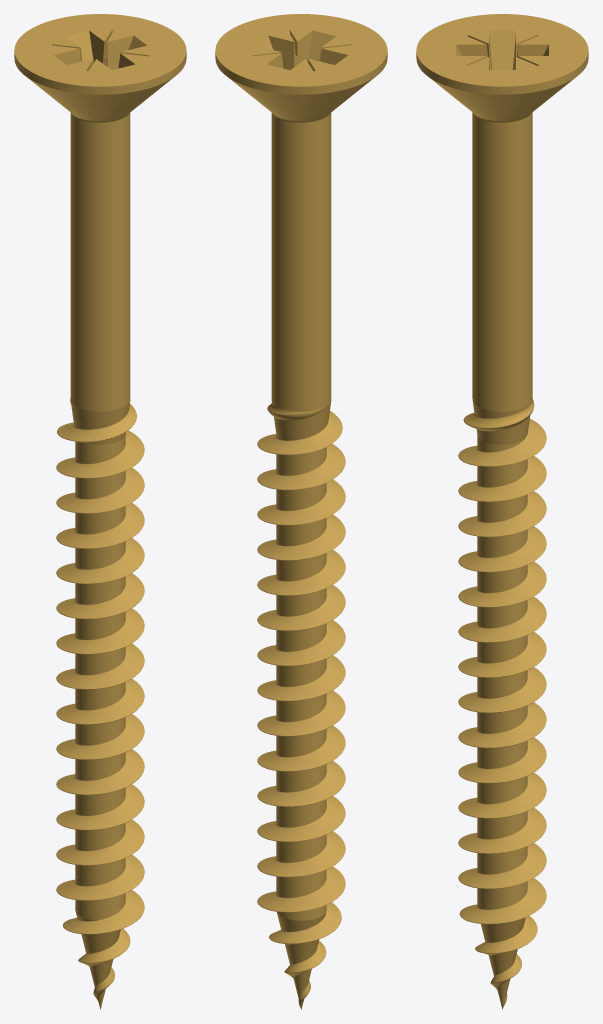
The model's file is model_full.glb.
3 views of the same model, side by side, from view 1: azimuth 30°, elevation 25°; view 2: azimuth 150°, elevation 25°; view 3: azimuth 270°, elevation 25° (orthographic).
Parts seen in each view (by area): view 1: geometry_0; view 2: geometry_0; view 3: geometry_0.
Boxes of the visible parts, box(x1,y1,x2,y2) form: geometry_0: box(14, 14, 186, 1009); geometry_0: box(215, 14, 387, 1009); geometry_0: box(416, 14, 588, 1009).
Size of the model in its own units: 0.00975 by 0.06 by 0.00975.
